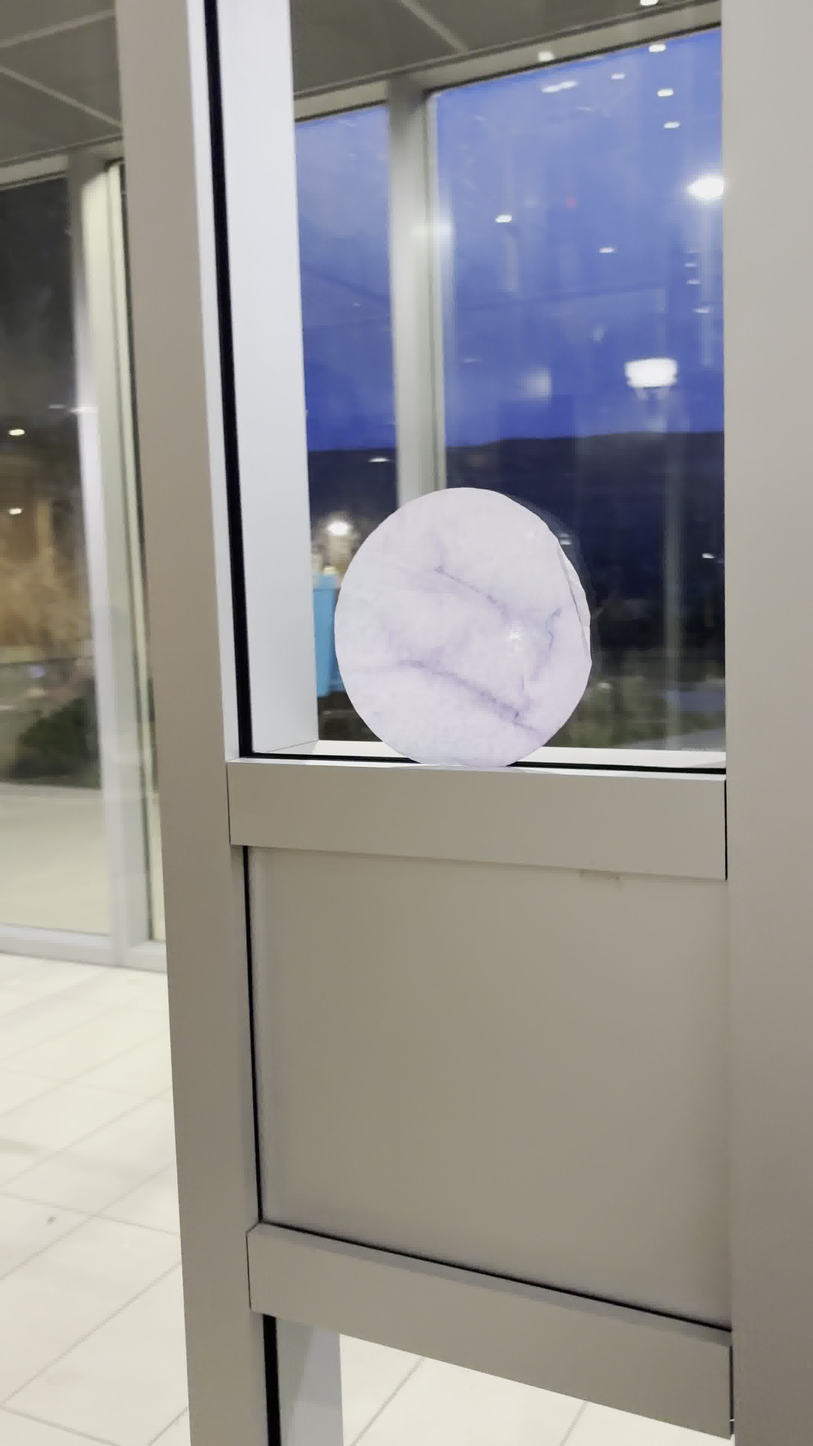Target: (335, 488, 594, 768)
